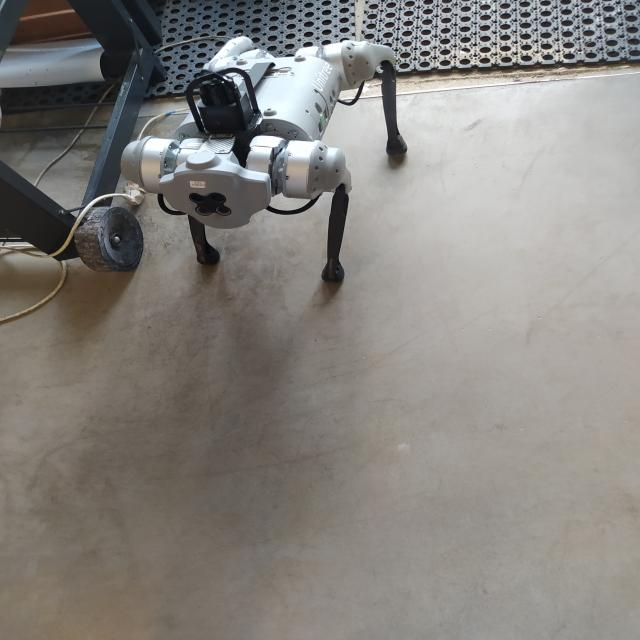unitree-go1-robot: (108, 20, 422, 309)
